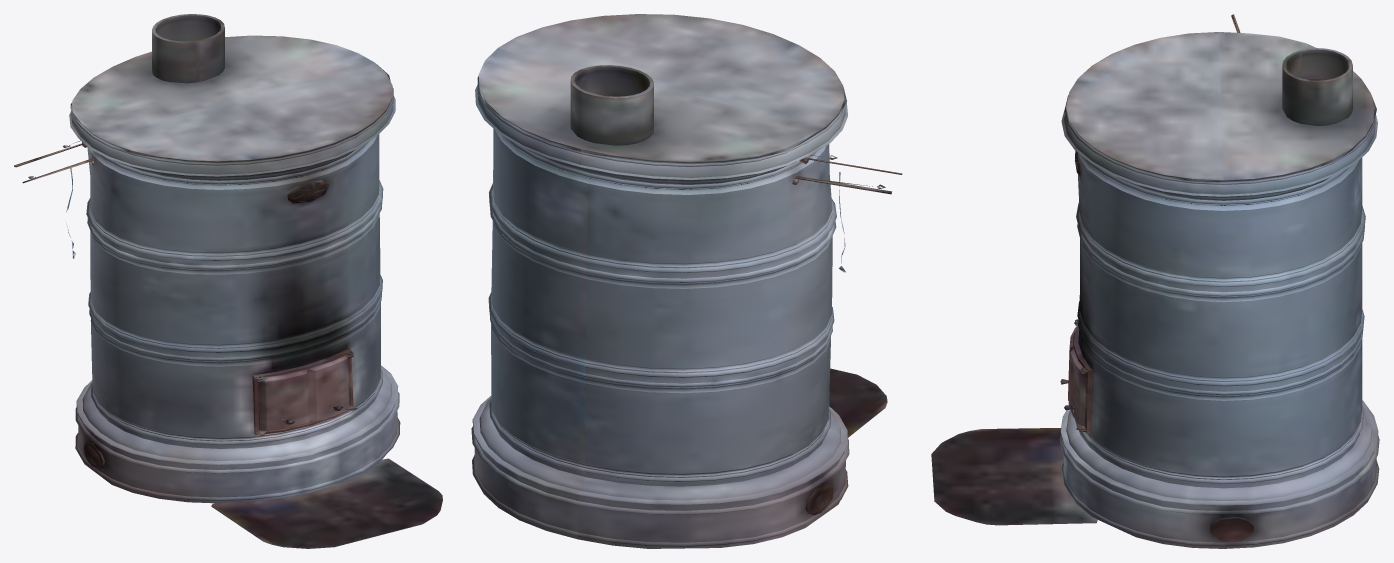
Rendered from ph-scandinavian-masonry-heater.glb.
3 views of the same model, side by side, from view 1: azimuth 30°, elevation 25°; view 2: azimuth 150°, elevation 25°; view 3: azimuth 270°, elevation 25° (orthographic). The views are drawn at different scales.
Visible parts, largest first — view 1: scandinavian_masonry_heater; view 2: scandinavian_masonry_heater; view 3: scandinavian_masonry_heater.
Boxes of the visible parts, <box> form: scandinavian_masonry_heater: <box>14,14,442,548</box>; scandinavian_masonry_heater: <box>471,14,902,548</box>; scandinavian_masonry_heater: <box>931,14,1379,548</box>.
Bounding box in the file's own units: 0.9999 × 1 × 0.9982.
Materials: 1 (1 with a texture image).
